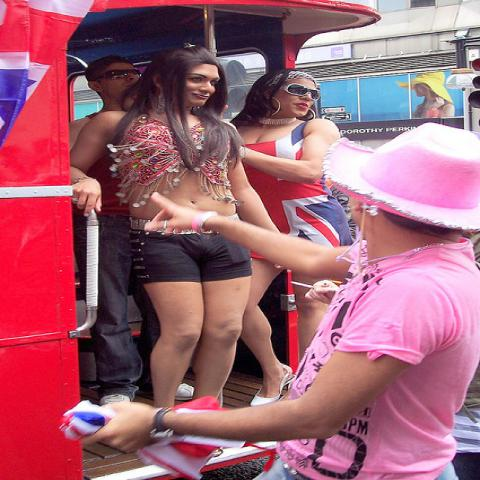bus: (2, 1, 372, 465)
